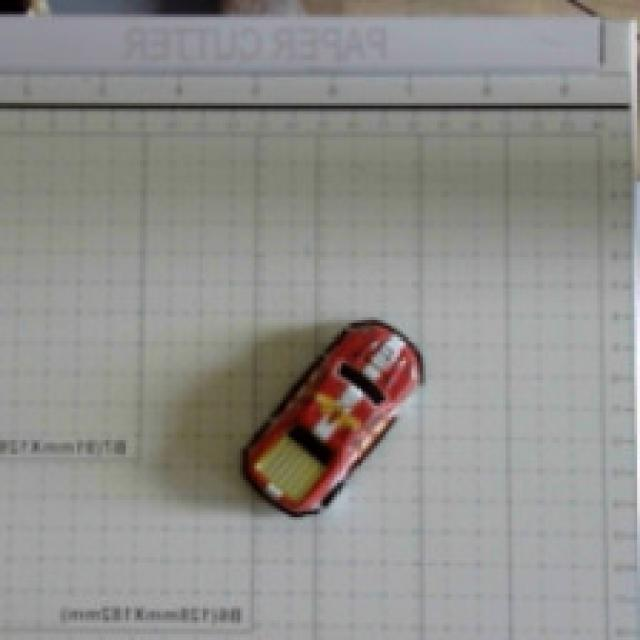Red Car: (198, 300, 456, 549)
